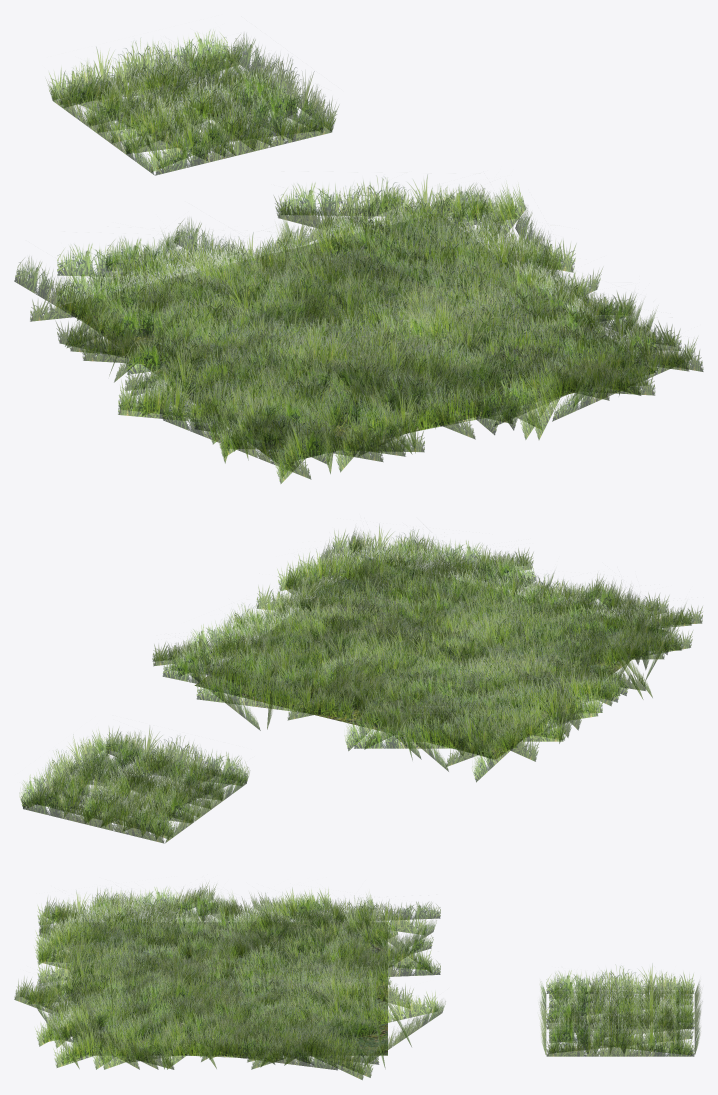
The model's file is Gallery_June22_03.glb.
3 views of the same model, one above another, from view 1: azimuth 30°, elevation 25°; view 2: azimuth 150°, elevation 25°; view 3: azimuth 270°, elevation 25° (orthographic). The views are drawn at different scales.
Size of what is drawn, in the model's own units: 3.98 by 0.2832 by 6.35.
Materials: 2 (2 with a texture image).
